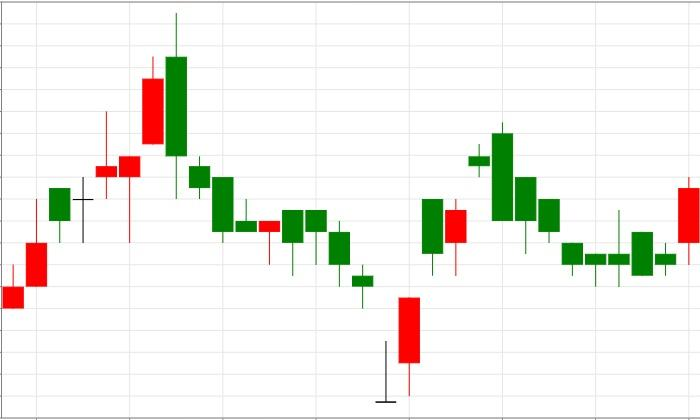bearish_engulfing_fall: (1, 13, 188, 309)
